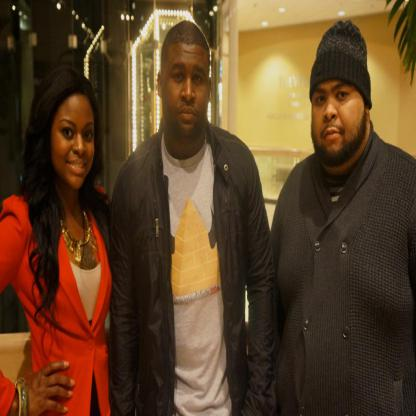face: (312, 64, 363, 171), (170, 38, 212, 135), (56, 97, 98, 183)
